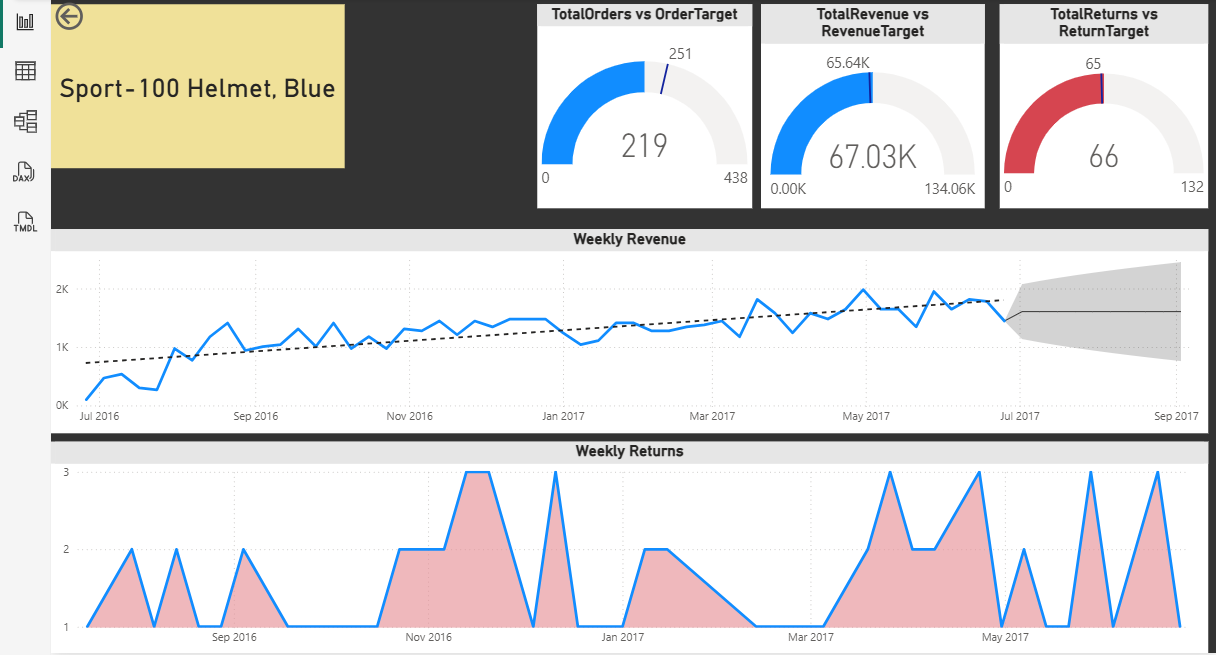

What the dashboard file says about the page in this screenshot:
{"tool":"powerbi","page":{"name":"Product Detail","canvas":[1280,720],"ordinal":1},"visuals":[{"type":"lineChart","title":"Weekly Revenue","fields":{"Category":["Calendar_Lookup.Start of Week"],"Y":["Sales folder.TotalRevenue_M"]},"box":[0,253.9,1270.7,223.7],"z":0},{"type":"areaChart","title":"Weekly Returns","fields":{"Category":["Calendar_Lookup.Start of Week"],"Y":["Returns.TotalReturns_M"]},"box":[0,487.1,1270.7,233.3],"z":1000},{"type":"gauge","title":"TotalOrders vs OrderTarget","fields":{"Y":["Sales folder.TotalOrders_M"],"TargetValue":["Sales folder.OrderTarget_M"]},"box":[533.8,6.9,236,223.7],"z":2000},{"type":"gauge","title":"TotalRevenue vs RevenueTarget","fields":{"Y":["Sales folder.TotalRevenue_M"],"TargetValue":["Sales folder.RevenueTarget_M"]},"box":[779.4,6.9,245.6,223.7],"z":3000},{"type":"gauge","title":"TotalReturns vs ReturnTarget","fields":{"Y":["Returns.TotalReturns_M"],"TargetValue":["Returns.ReturnTarget_M"]},"box":[1041.5,6.9,229.2,223.7],"z":4000},{"type":"card","fields":{"Values":["Min(Products_Lookup.ProductName)"]},"box":[0,6.9,322.5,179.8],"z":5000},{"type":"actionButton","box":[0,0,100,40],"z":6000}]}

Visuals, with their boxes in screenshot pixels (x1, y1, x2, y2):
"Weekly Revenue" lineChart: detection(63, 228, 1204, 429)
"Weekly Returns" areaChart: detection(63, 437, 1204, 647)
"TotalOrders vs OrderTarget" gauge: detection(543, 6, 754, 207)
"TotalRevenue vs RevenueTarget" gauge: detection(763, 6, 984, 207)
"TotalReturns vs ReturnTarget" gauge: detection(998, 6, 1204, 207)
card - Min(Products_Lookup.ProductName): detection(63, 6, 353, 168)
actionButton: detection(63, 0, 153, 36)
